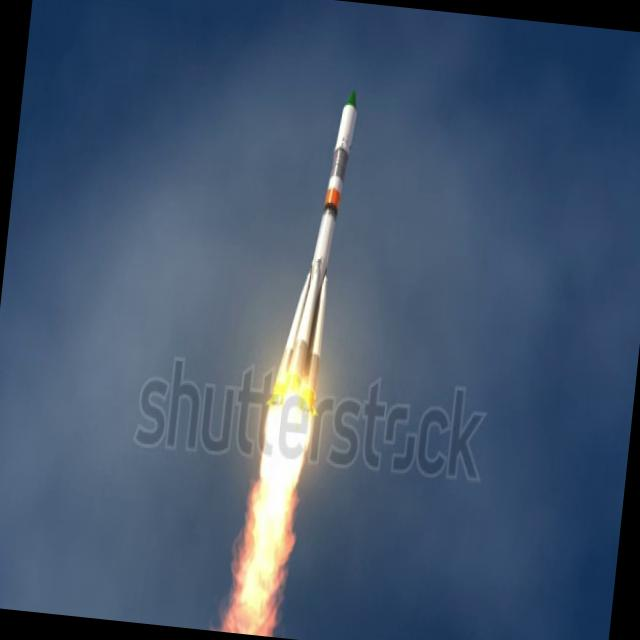rocket: (249, 81, 362, 540)
